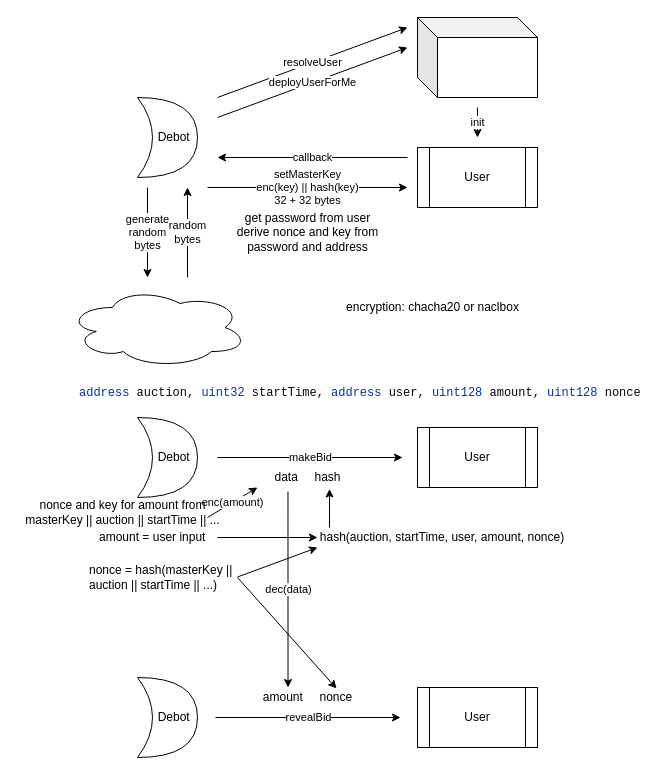
This 658x775 diagram has some shape labels left out. Each missing label, with the box of its shape:
Root: (416, 16, 538, 98)
SDK : genRandom: (66, 286, 248, 368)
